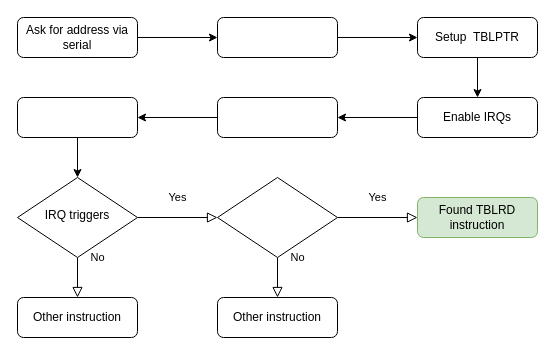
Some shapes in this 555 by 355 pixel diagram are drawn without their labels. Each missing label, with the centre of its shape:
Jump to address: pixel 77 117
Program Timer: pixel 277 117
TABLAT != 0: pixel 277 217
TABLAT = 0: pixel 277 37
